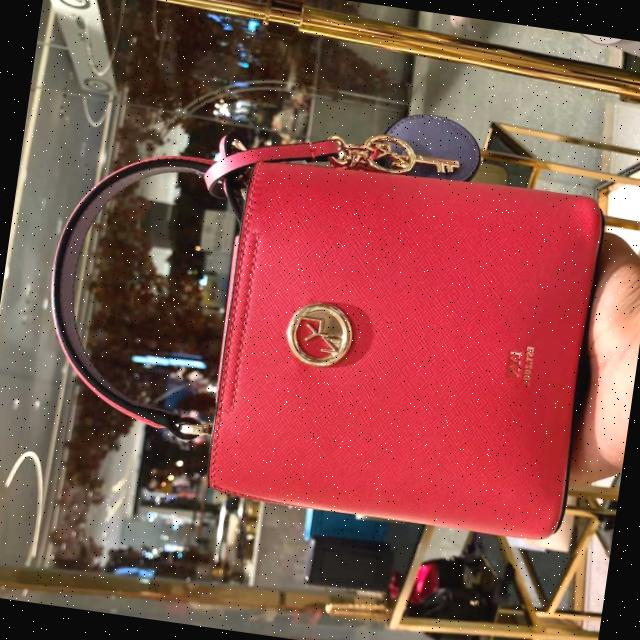Handbag: (156, 127, 626, 556)
